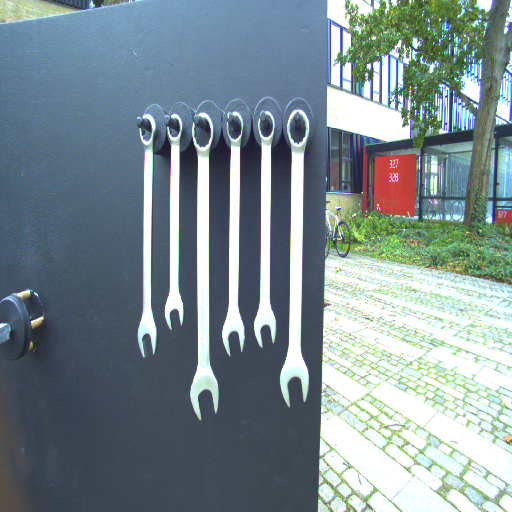bottom: (189, 366, 221, 422), (279, 350, 310, 407), (219, 311, 247, 358), (252, 301, 276, 349), (135, 311, 158, 360), (163, 289, 187, 333)
top: (189, 111, 217, 158), (286, 107, 310, 152), (135, 112, 159, 148), (225, 110, 245, 148), (256, 109, 276, 145), (163, 112, 184, 146)
